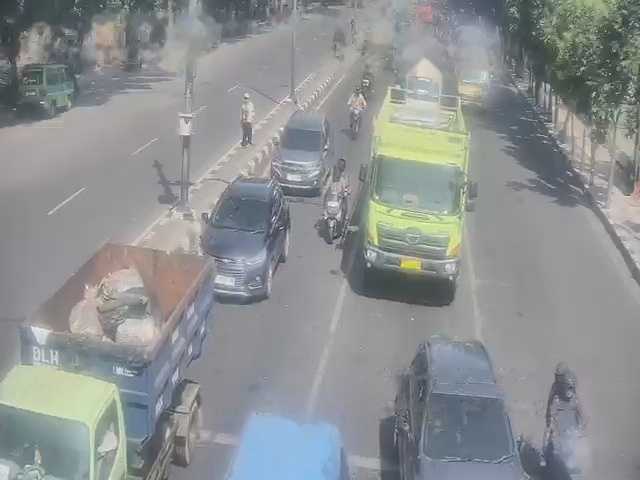Mobil: (391, 340, 515, 480), (203, 172, 287, 298), (269, 107, 325, 188)
Motor: (540, 363, 589, 479), (320, 196, 340, 243), (347, 86, 366, 110)
Truk: (0, 244, 214, 479), (360, 92, 474, 286)
